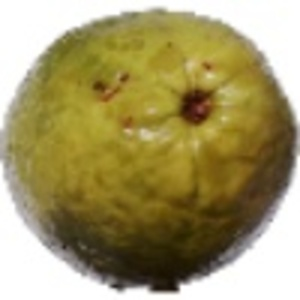goiaba: (2, 3, 298, 280)
